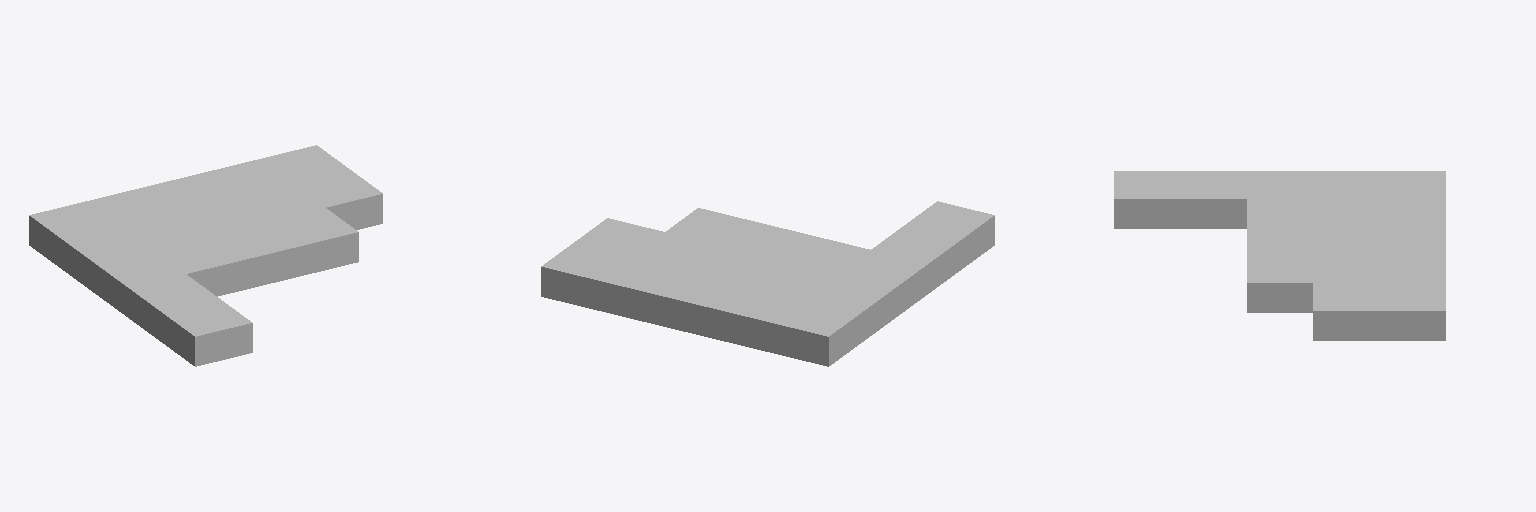
The model's file is 47s_block.obj.
3 views of the same model, side by side, from view 1: azimuth 30°, elevation 25°; view 2: azimuth 150°, elevation 25°; view 3: azimuth 270°, elevation 25° (orthographic).
Visible parts, largest first — view 1: block.0.0_block.4115, block.3.2_block.4126, block.2.2_block.4123, block.1.2_block.4120, block.4.3_block.4130, block.0.3_block.4118, block.0.4_block.4119, block.0.2_block.4117, block.0.1_block.4116, block.2.4_block.4125, block.1.3_block.4121, block.3.3_block.4127 (+4 smaller); view 2: block.0.4_block.4119, block.4.4_block.4131, block.2.4_block.4125, block.1.4_block.4122, block.3.4_block.4128, block.0.1_block.4116, block.0.0_block.4115, block.0.2_block.4117, block.0.3_block.4118, block.1.3_block.4121, block.2.3_block.4124, block.3.2_block.4126 (+4 smaller); view 3: block.0.1_block.4116, block.4.3_block.4130, block.0.0_block.4115, block.3.2_block.4126, block.4.4_block.4131, block.0.3_block.4118, block.1.3_block.4121, block.2.3_block.4124, block.3.3_block.4127, block.0.2_block.4117, block.0.4_block.4119, block.1.2_block.4120 (+4 smaller).
Boxes of the visible parts, x1,y1,x2,y2 form: block.0.0_block.4115: [162, 298, 252, 366]; block.3.2_block.4126: [269, 208, 358, 275]; block.2.2_block.4123: [212, 222, 300, 289]; block.1.2_block.4120: [154, 236, 243, 296]; block.4.3_block.4130: [293, 169, 382, 229]; block.0.3_block.4118: [62, 226, 152, 293]; block.0.4_block.4119: [29, 201, 119, 268]; block.0.2_block.4117: [96, 250, 184, 317]; block.0.1_block.4116: [129, 274, 218, 341]; block.2.4_block.4125: [145, 173, 234, 210]; block.1.3_block.4121: [120, 212, 209, 249]; block.3.3_block.4127: [235, 183, 324, 221]; block.0.4_block.4119: [771, 298, 861, 366]; block.4.4_block.4131: [541, 242, 631, 310]; block.2.4_block.4125: [656, 270, 746, 338]; block.1.4_block.4122: [714, 285, 803, 352]; block.3.4_block.4128: [599, 257, 688, 324]; block.0.1_block.4116: [871, 226, 961, 293]; block.0.0_block.4115: [904, 201, 994, 268]; block.0.2_block.4117: [839, 250, 927, 317]; block.0.3_block.4118: [805, 274, 894, 341]; block.1.3_block.4121: [747, 260, 836, 297]; block.2.3_block.4124: [690, 246, 779, 283]; block.3.2_block.4126: [666, 208, 754, 245]; block.0.1_block.4116: [1180, 171, 1246, 228]; block.4.3_block.4130: [1313, 283, 1379, 340]; block.0.0_block.4115: [1114, 171, 1179, 228]; block.3.2_block.4126: [1247, 255, 1312, 312]; block.4.4_block.4131: [1380, 283, 1445, 340]; block.0.3_block.4118: [1313, 171, 1379, 198]; block.1.3_block.4121: [1313, 199, 1379, 226]; block.2.3_block.4124: [1313, 227, 1379, 254]; block.3.3_block.4127: [1313, 255, 1379, 282]; block.0.2_block.4117: [1247, 171, 1312, 198]; block.0.4_block.4119: [1380, 171, 1445, 198]; block.1.2_block.4120: [1247, 199, 1312, 226].
Size of the model in its own units: 10 by 1 by 10.